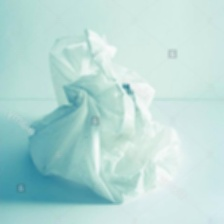plastic_bag: (25, 26, 182, 210)
